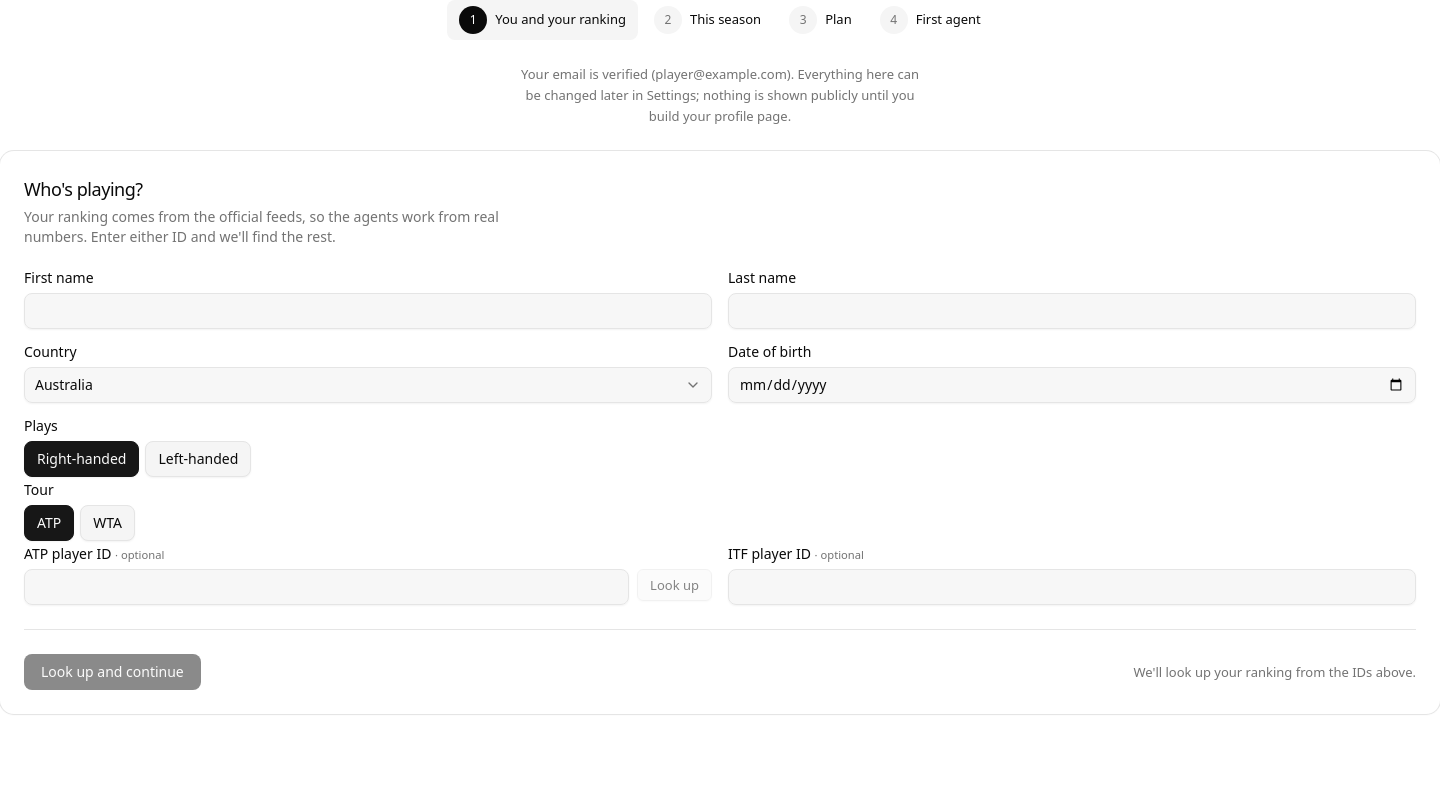
OnboardingWizard — guardian gate (M-ID-3, OB-6) › blocks a minor from advancing past step 1 with no guardian email
In the field labelled "First name": (368, 311) [24,293,712,329], type "Arya"
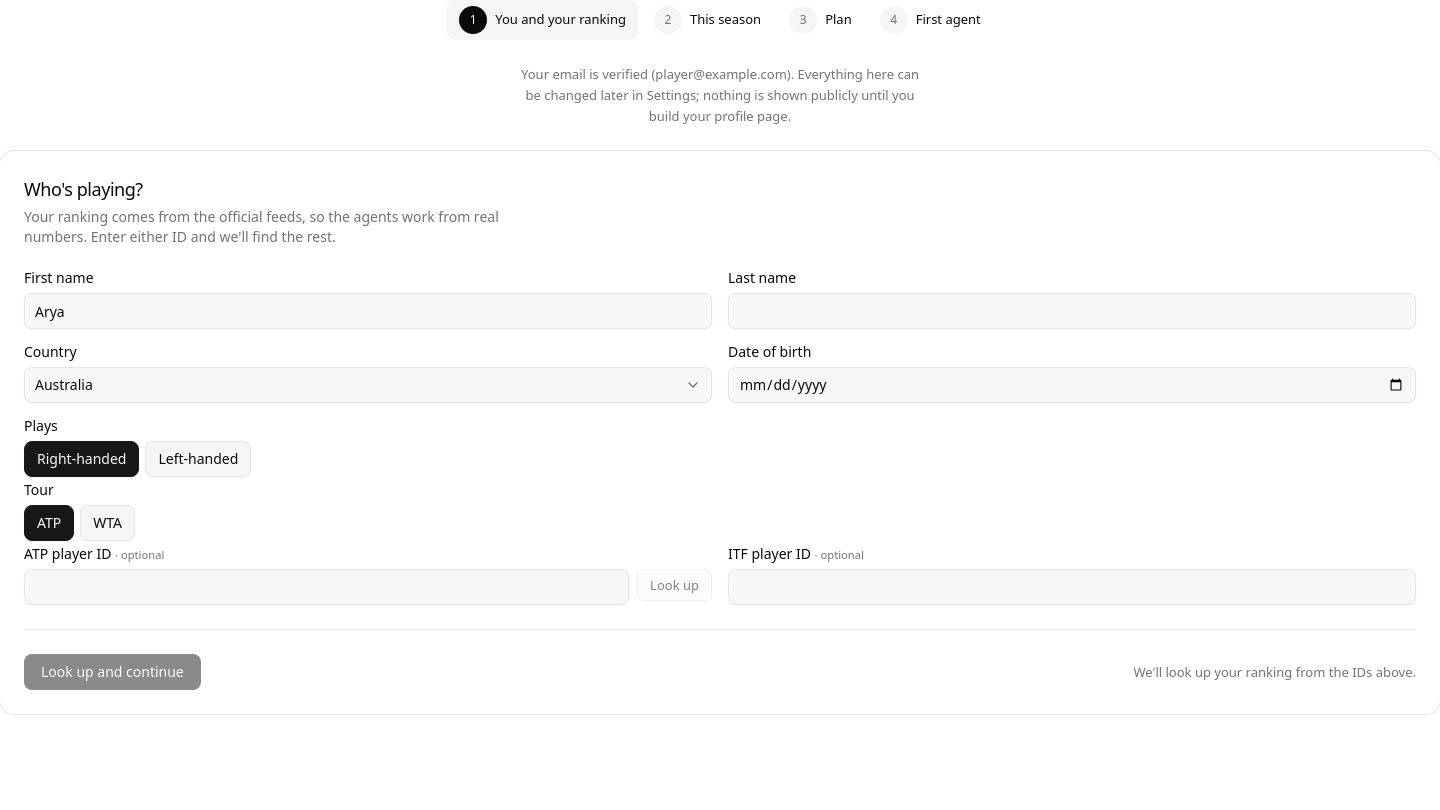
In the field labelled "Last name": (1072, 311) [728,293,1416,329], type "Dubey"
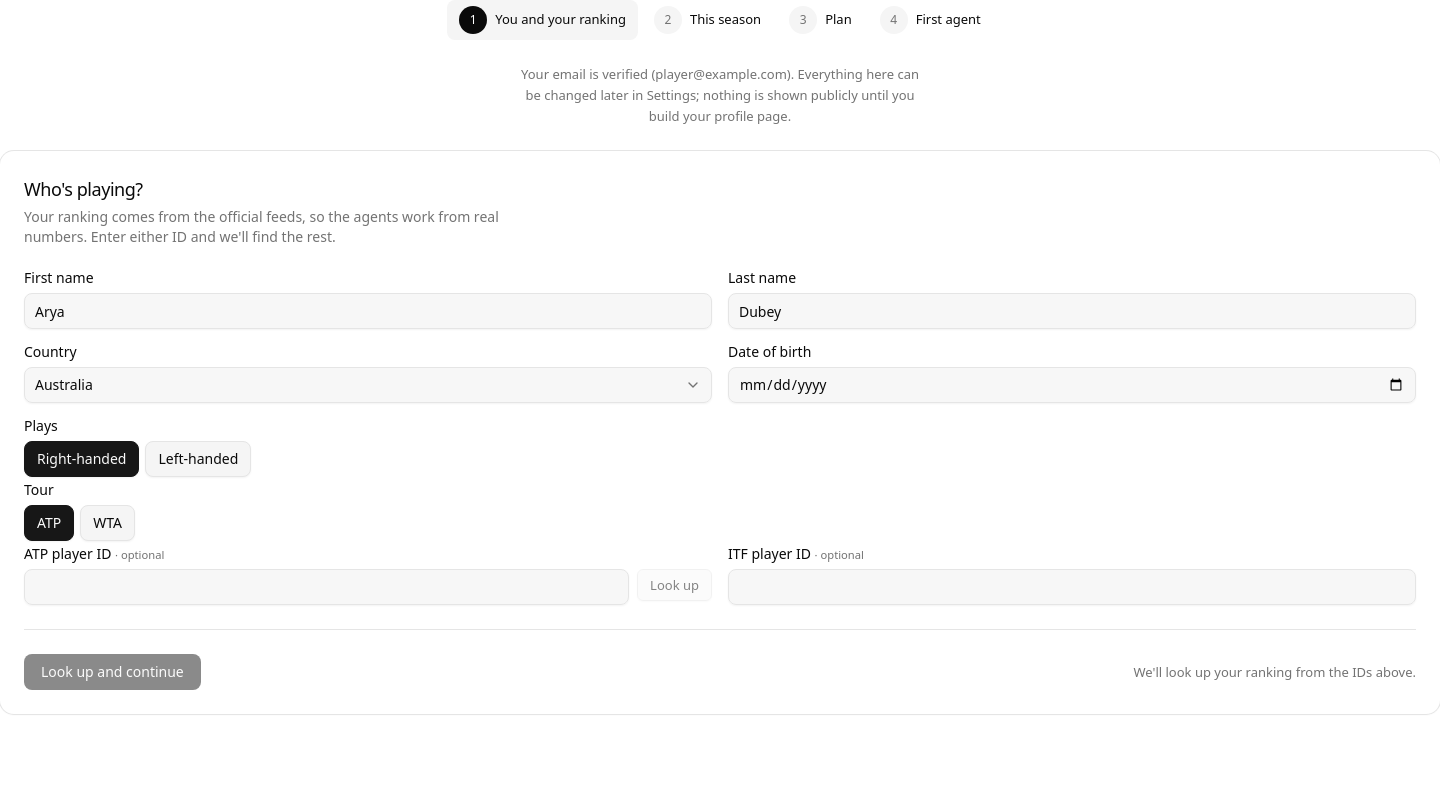
In the date field labelled "Date of birth": (1072, 385) [728,367,1416,403], type "2010-01-01"
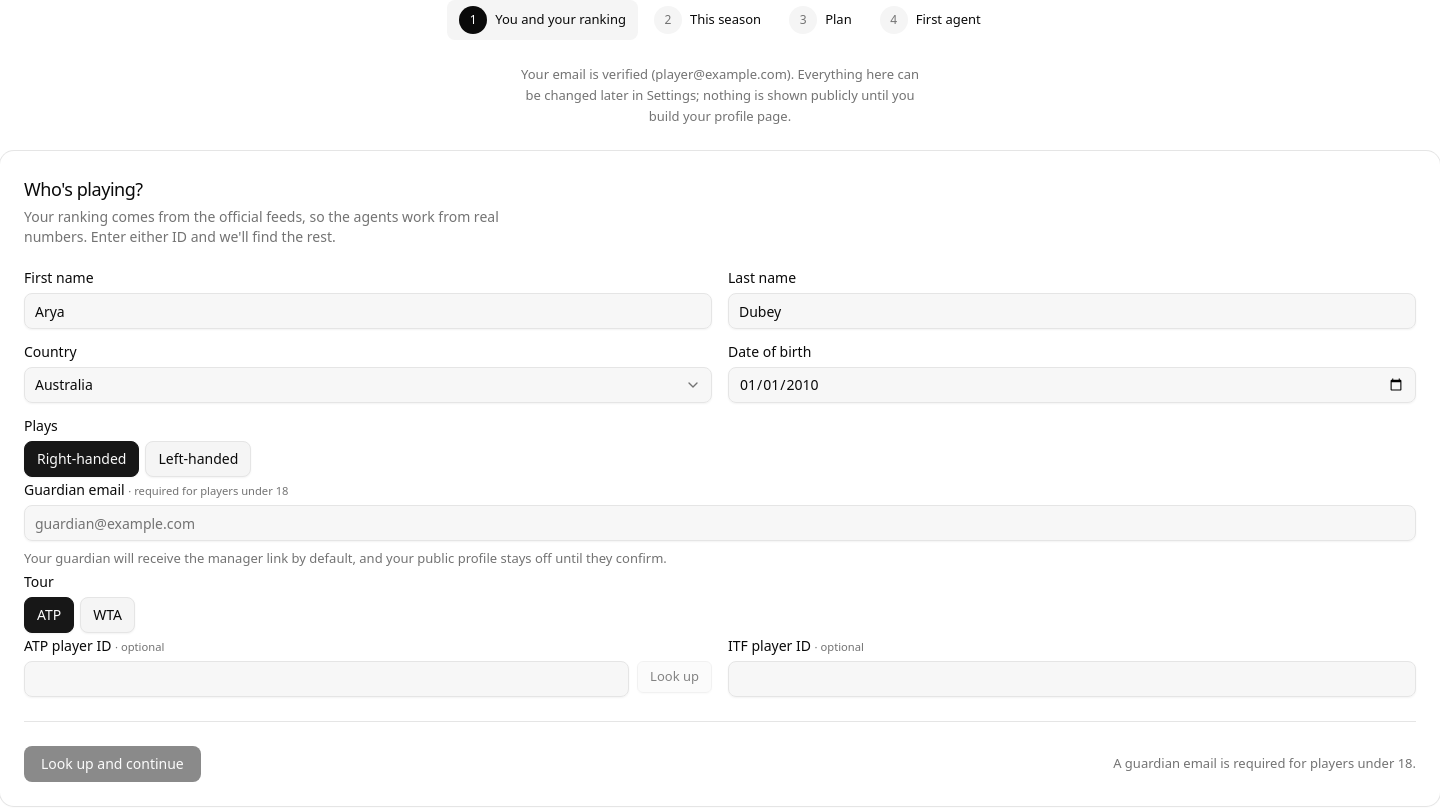
In the field labelled "ATP player ID · optional": (327, 679) [24,661,629,697], type "B0AH"
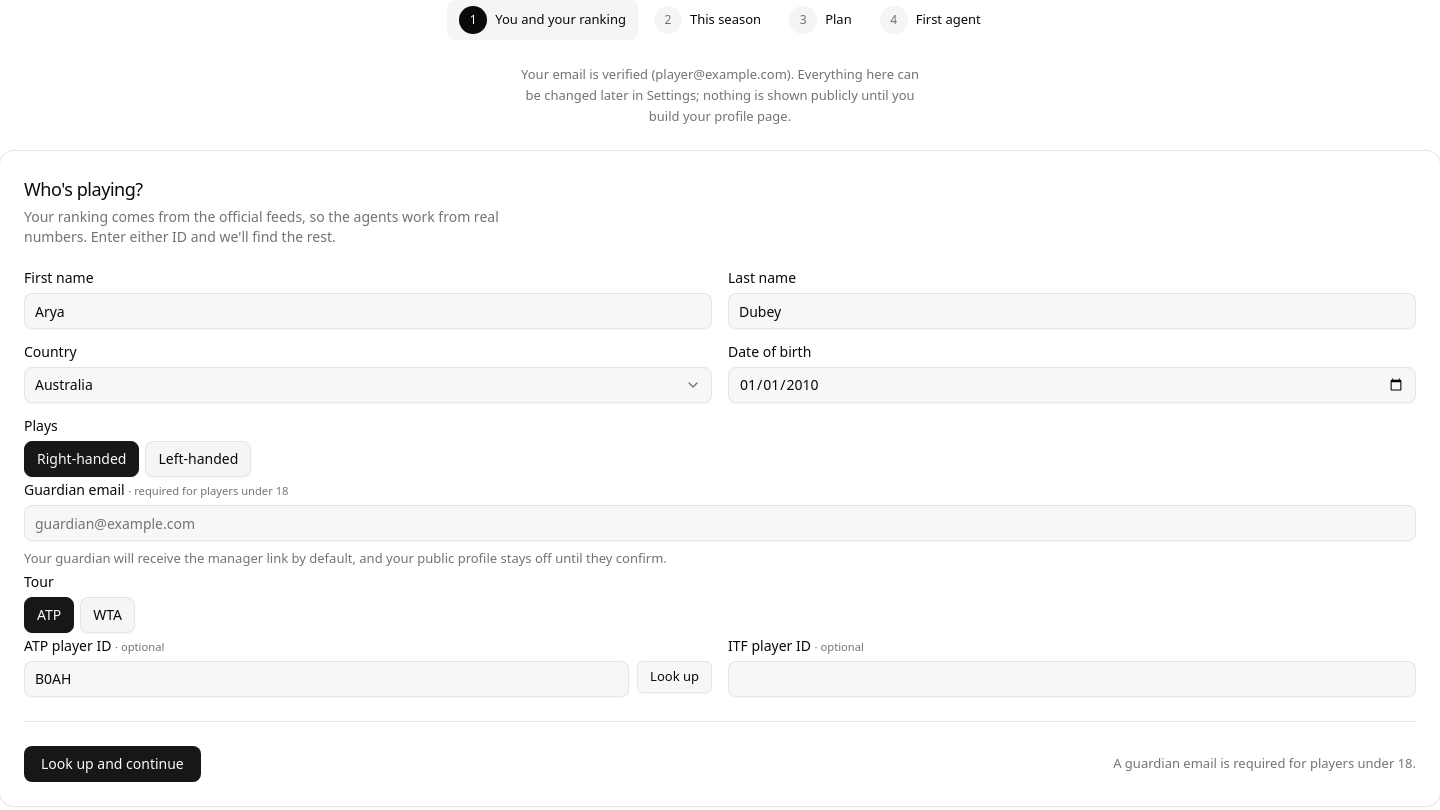
Click the button "Look up and continue": (112, 764) [24,746,201,782]
(page scrolled)
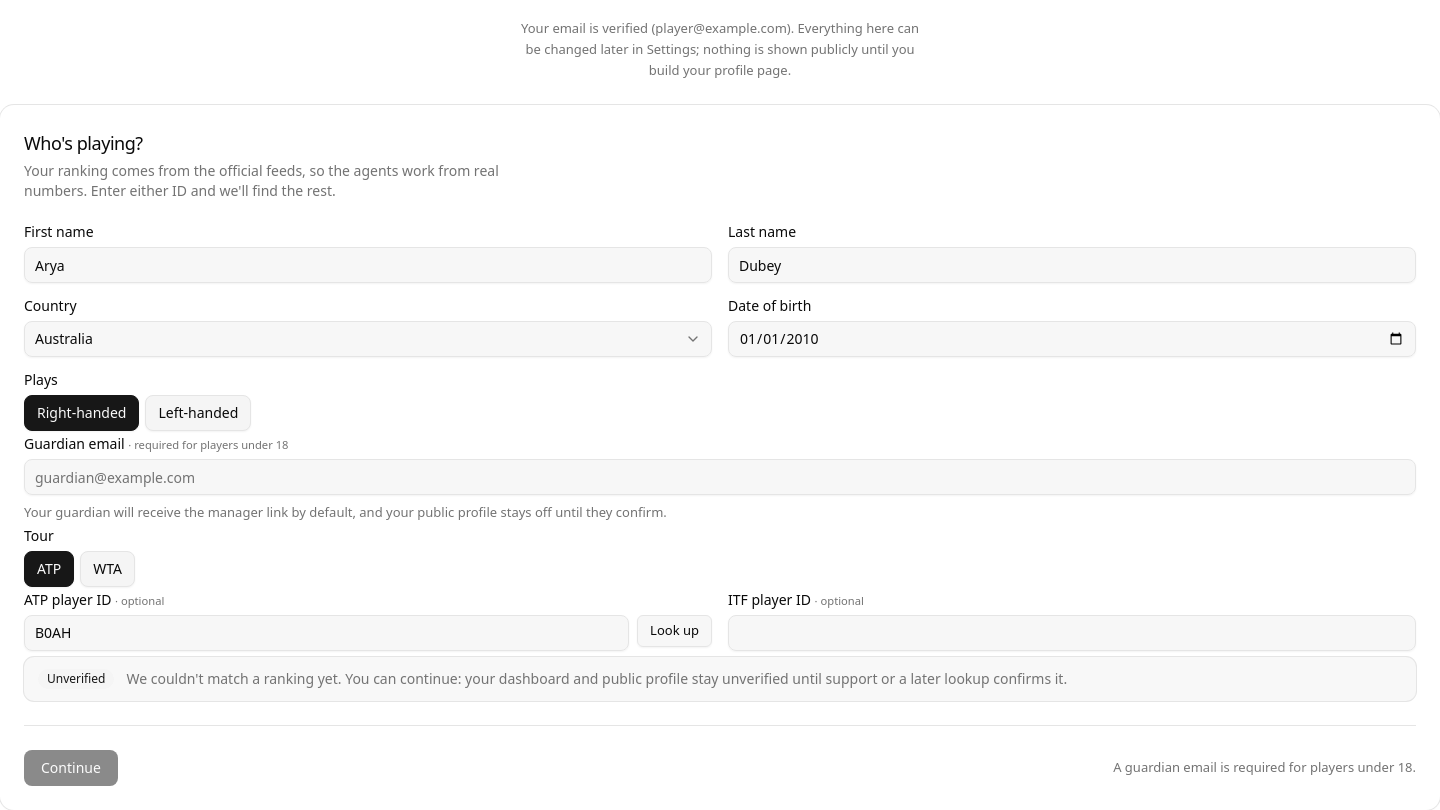
Result: the text "A guardian email is required for players under 18." is shown at [1113,758,1416,778]
Result: the text "Unverified" is shown at [38,669,114,689]
